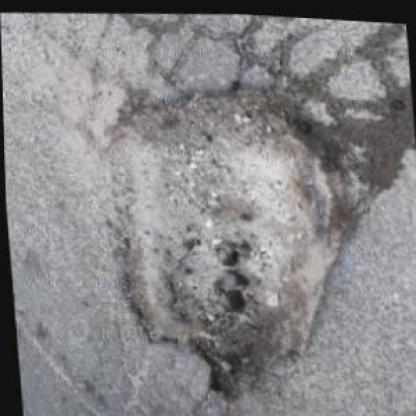pothole: (94, 61, 373, 406)
